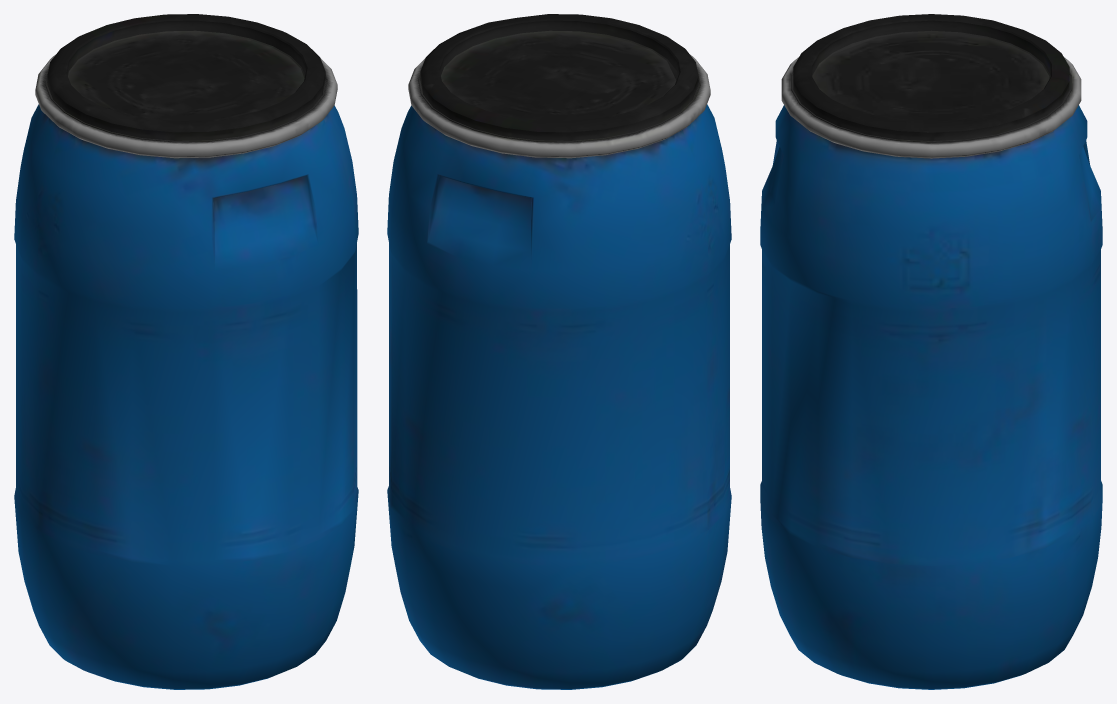
File: barril.glb
The picture shows the model from 3 angles, left to right: view 1: azimuth 30°, elevation 25°; view 2: azimuth 150°, elevation 25°; view 3: azimuth 270°, elevation 25°; orthographic projection.
Visible parts, largest first — view 1: Barrel_02; view 2: Barrel_02; view 3: Barrel_02.
Boxes of the visible parts, x1,y1,x2,y2 form: Barrel_02: (14, 14, 358, 689); Barrel_02: (387, 14, 731, 689); Barrel_02: (760, 14, 1102, 689).
Size of the model in its own units: 0.4882 by 0.88 by 0.4846.
1 material, 1 textured.
